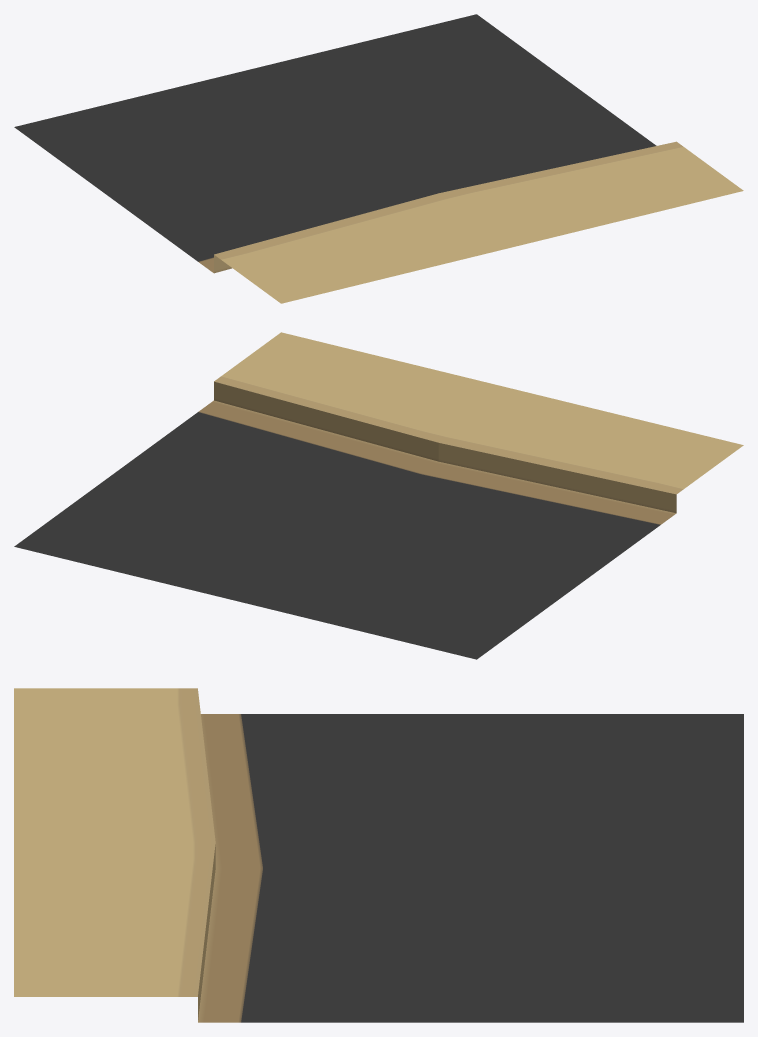
The model's file is SM_Env_Road_Asphalt_Short_01.fbx.
3 renders of one model, top to bottom at view 1: azimuth 30°, elevation 25°; view 2: azimuth 150°, elevation 25°; view 3: azimuth 270°, elevation 25°, orthographic. The views are drawn at different scales.
Visible parts, largest first — view 1: SM_Env_Road_Asphalt_Short_01; view 2: SM_Env_Road_Asphalt_Short_01; view 3: SM_Env_Road_Asphalt_Short_01.
Boxes of the visible parts, box(x1,y1,x2,y2) form: SM_Env_Road_Asphalt_Short_01: box(14, 14, 743, 303); SM_Env_Road_Asphalt_Short_01: box(14, 332, 743, 659); SM_Env_Road_Asphalt_Short_01: box(14, 688, 743, 1022).
Bounding box in the file's own units: 5 × 0.1948 × 5.
